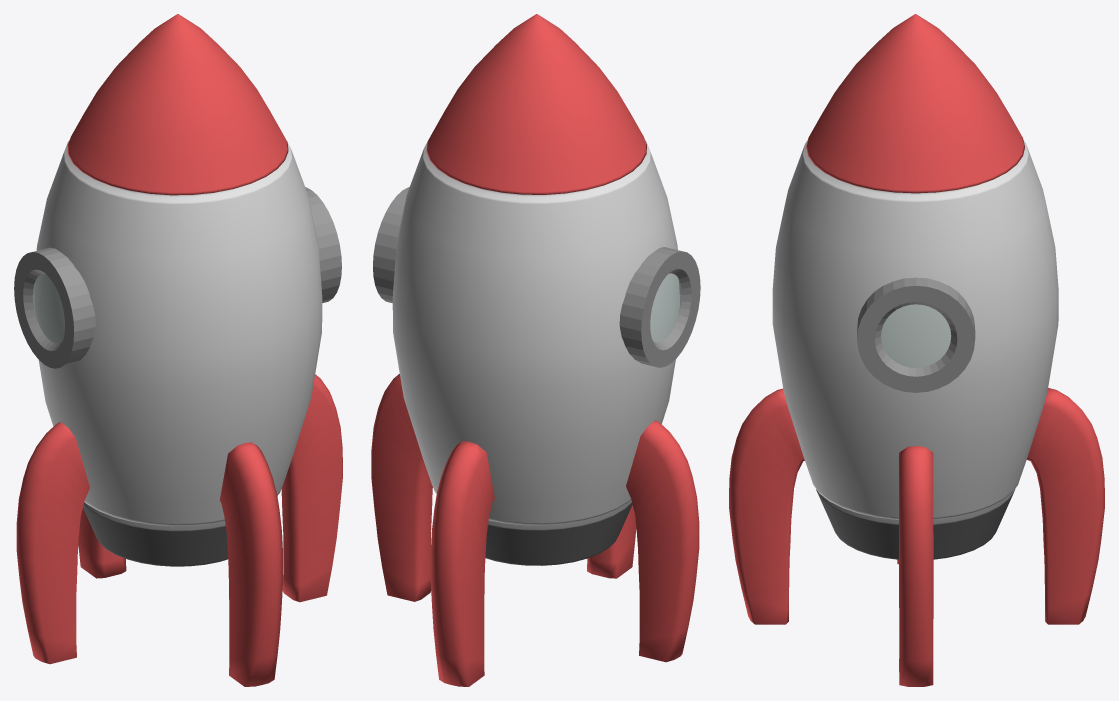
The model's file is spaceship.glb.
The picture shows the model from 3 angles, left to right: view 1: azimuth 30°, elevation 25°; view 2: azimuth 150°, elevation 25°; view 3: azimuth 270°, elevation 25°; orthographic projection.
Visible parts, largest first — view 1: Cylinder, Cube.002, Cube, Cube.003, Cylinder.001, Cylinder.002, Cube.001; view 2: Cylinder, Cube.002, Cube.001, Cube.003, Cylinder.001, Cylinder.002, Cube; view 3: Cylinder, Cube.001, Cube, Cylinder.002, Cube.003.
Part boxes in pixels (x1=…): Cylinder: x1=34, y1=14, x2=322, y2=566; Cube.002: x1=16, y1=422, x2=89, y2=664; Cube: x1=219, y1=442, x2=282, y2=686; Cube.003: x1=281, y1=374, x2=342, y2=602; Cylinder.001: x1=14, y1=247, x2=95, y2=368; Cylinder.002: x1=305, y1=187, x2=341, y2=302; Cube.001: x1=78, y1=508, x2=126, y2=578; Cylinder: x1=392, y1=14, x2=679, y2=565; Cube.002: x1=626, y1=420, x2=699, y2=662; Cube.001: x1=430, y1=441, x2=494, y2=686; Cube.003: x1=371, y1=374, x2=432, y2=601; Cylinder.001: x1=619, y1=247, x2=700, y2=367; Cylinder.002: x1=373, y1=187, x2=409, y2=302; Cube: x1=587, y1=505, x2=636, y2=578; Cylinder: x1=772, y1=14, x2=1058, y2=559; Cube.001: x1=1026, y1=388, x2=1104, y2=624; Cube: x1=729, y1=388, x2=804, y2=624; Cylinder.002: x1=857, y1=277, x2=975, y2=392; Cube.003: x1=899, y1=446, x2=933, y2=686.
Bounding box in the file's own units: 2.47 × 4.44 × 2.51.
